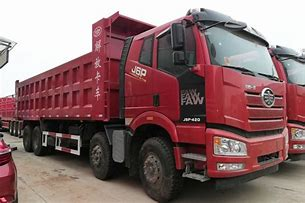bigtruck: (9, 9, 291, 198)
